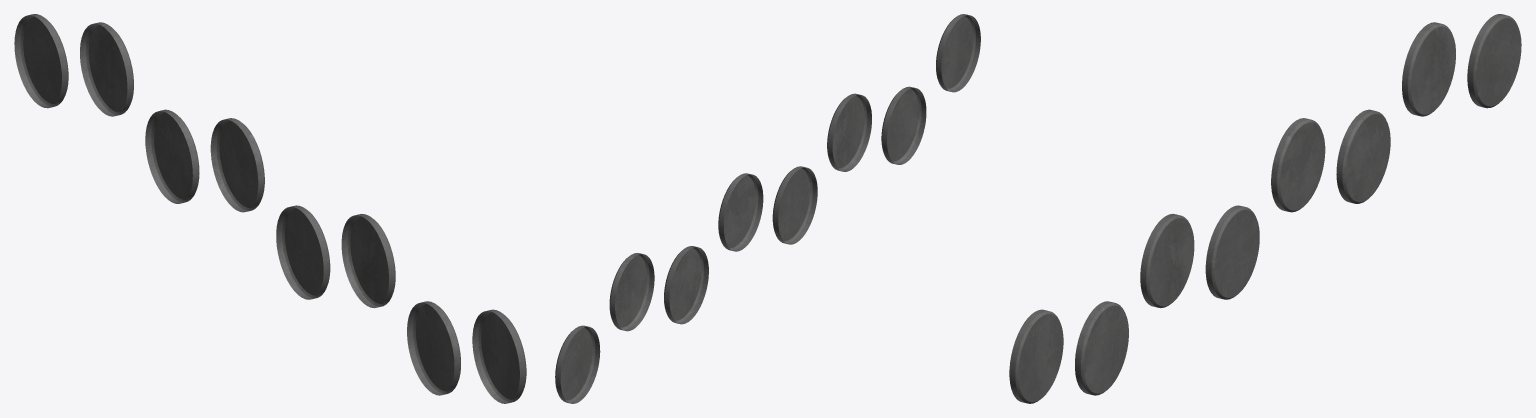
The model's file is cP_Pathway03_SteppingStoneRound_Comb02.dae.
3 renders of one model, left to right at view 1: azimuth 30°, elevation 25°; view 2: azimuth 150°, elevation 25°; view 3: azimuth 330°, elevation 25°, orthographic. The views are drawn at different scales.
Visible parts, largest first — view 1: cP_Pathway03_SteppingStoneRound_Comb02.001; view 2: cP_Pathway03_SteppingStoneRound_Comb02.001; view 3: cP_Pathway03_SteppingStoneRound_Comb02.001.
Boxes of the visible parts, box(x1,y1,x2,y2) form: cP_Pathway03_SteppingStoneRound_Comb02.001: box(14, 14, 526, 403); cP_Pathway03_SteppingStoneRound_Comb02.001: box(555, 14, 980, 403); cP_Pathway03_SteppingStoneRound_Comb02.001: box(1009, 14, 1521, 403).
Size of the model in its own units: 0.0521 by 5.79 by 0.7949.
